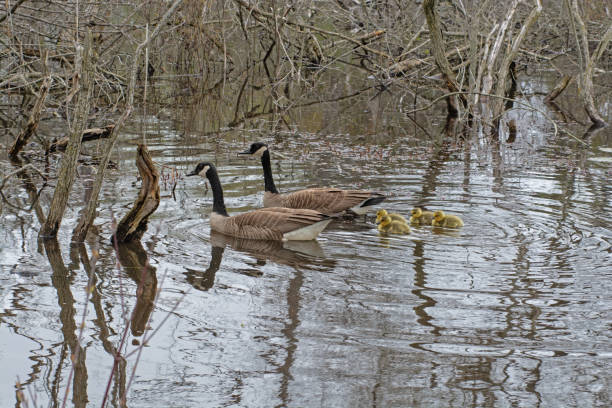goose: (182, 160, 340, 243), (235, 142, 390, 218)
